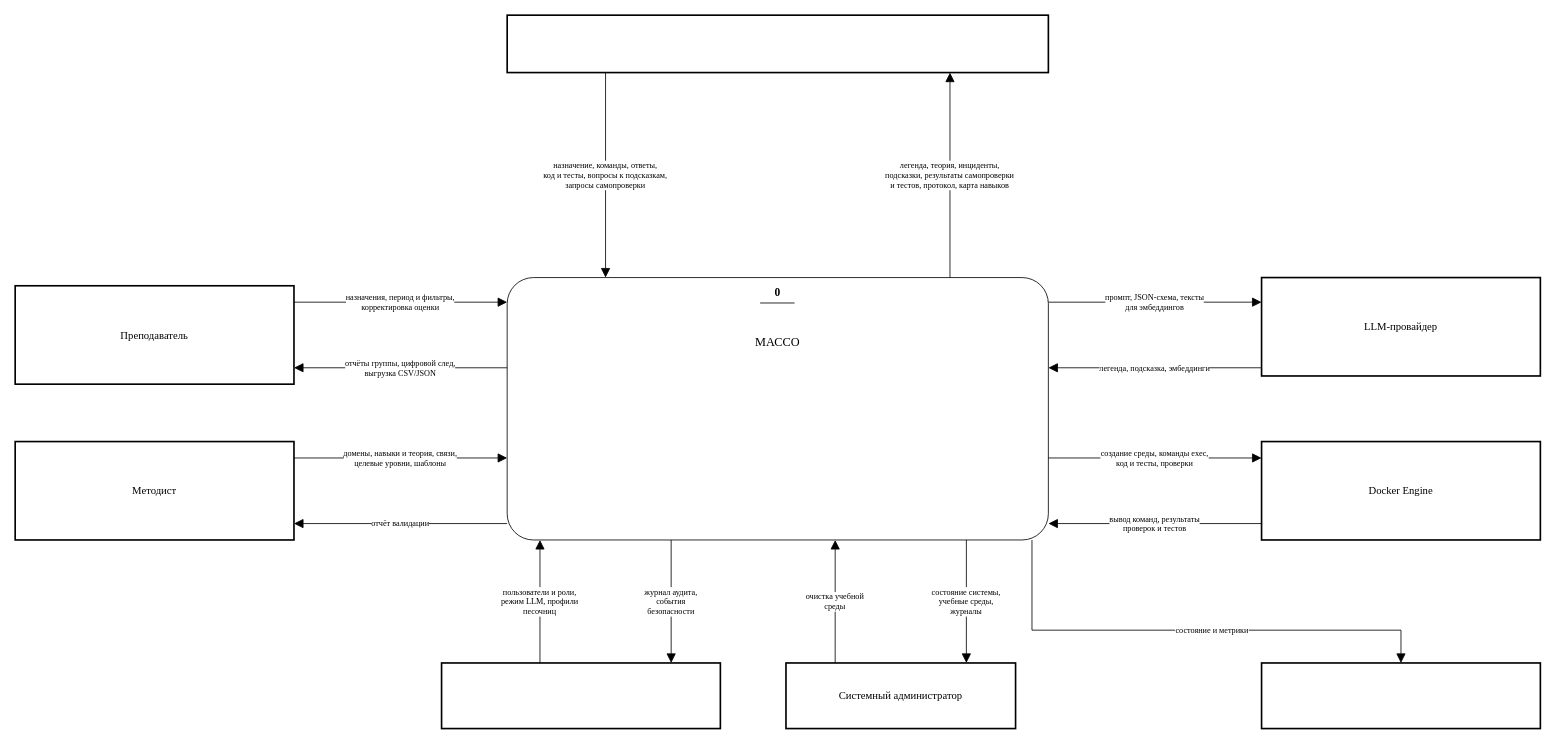
Some shapes in this 1555 by 743 pixel diagram are drawn without their labels. Here are the shapes that lost their labels. From the top down, the box of each, then its label:
(506, 14, 1049, 73): Обучающийся
(440, 662, 721, 729): Администратор
(1260, 662, 1541, 729): Система мониторинга
